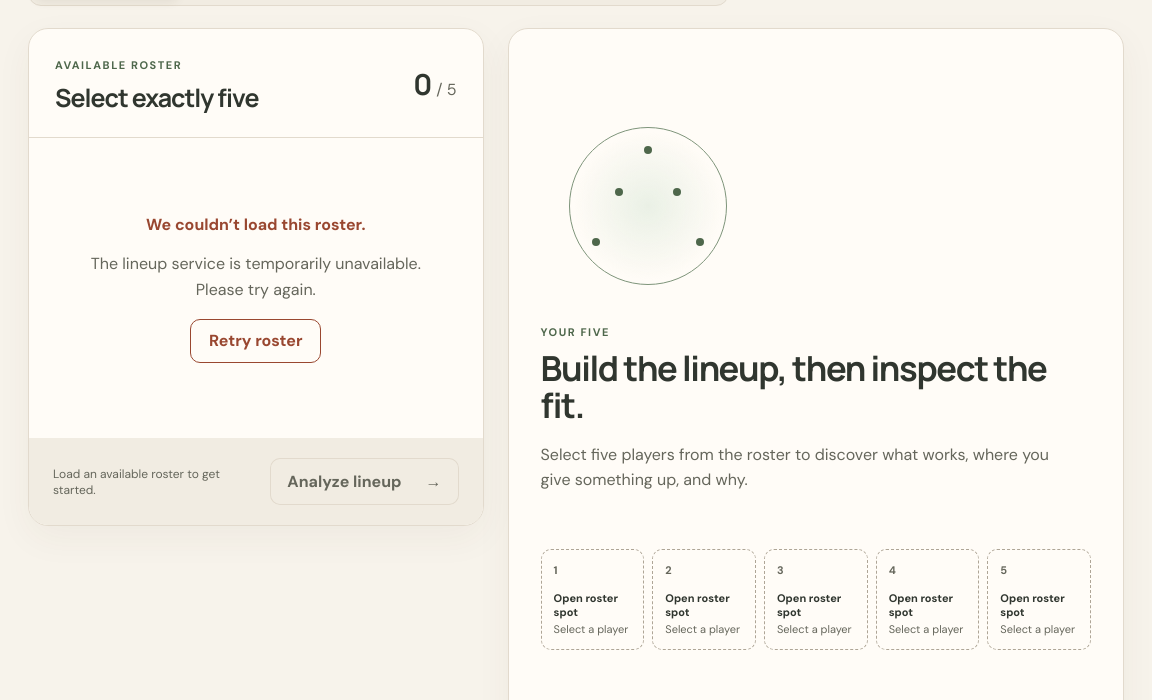
Test: manual lineup builder › recovers from a roster failure without reloading the page
The image size is (1152, 700).
(page scrolled)
Check: the text "We couldn’t load this roster." is shown, box [146,214,366,235]
Click the button "Retry roster" at (256, 340), box [190,318,322,362]
(page scrolled)
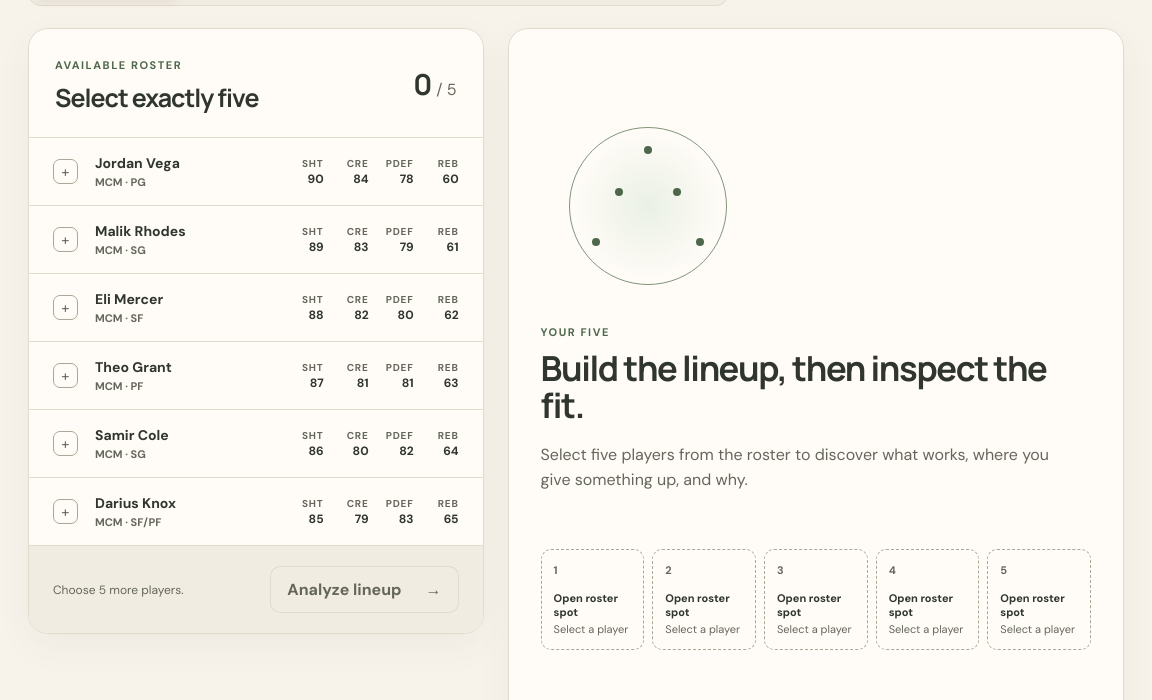
Check: the button with aria-label "Select Jordan Vega" is shown, box [29,138,483,206]
